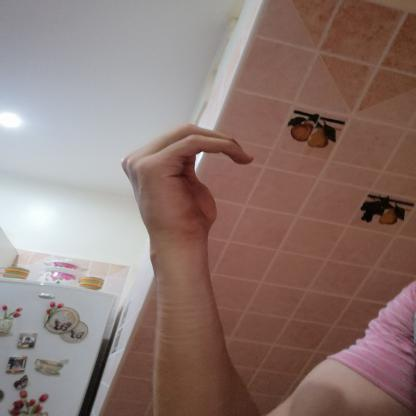HAA: (104, 116, 274, 252)
